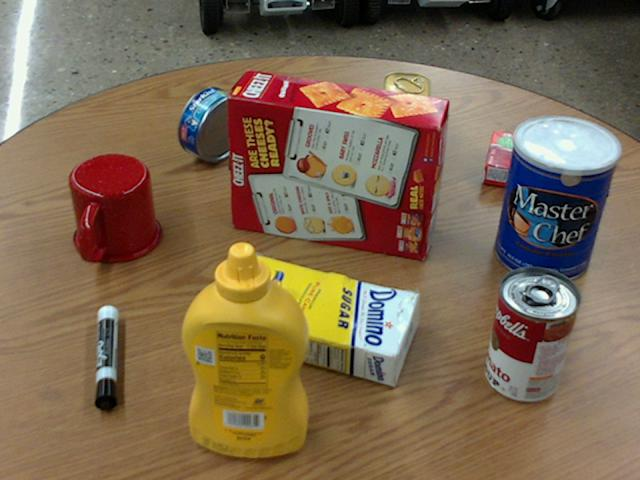cracker_box: (227, 72, 446, 259)
gelatin_box: (483, 129, 553, 192)
large_marker: (93, 305, 116, 408)
master_chef_can: (494, 115, 618, 282)
mug: (69, 154, 161, 262)
mustard_bottle: (179, 242, 305, 456)
potted_meat_can: (381, 71, 430, 171)
sugar_box: (212, 252, 420, 387)
tomato_soup_can: (485, 267, 580, 403)
tuna_fish_can: (177, 87, 245, 162)
